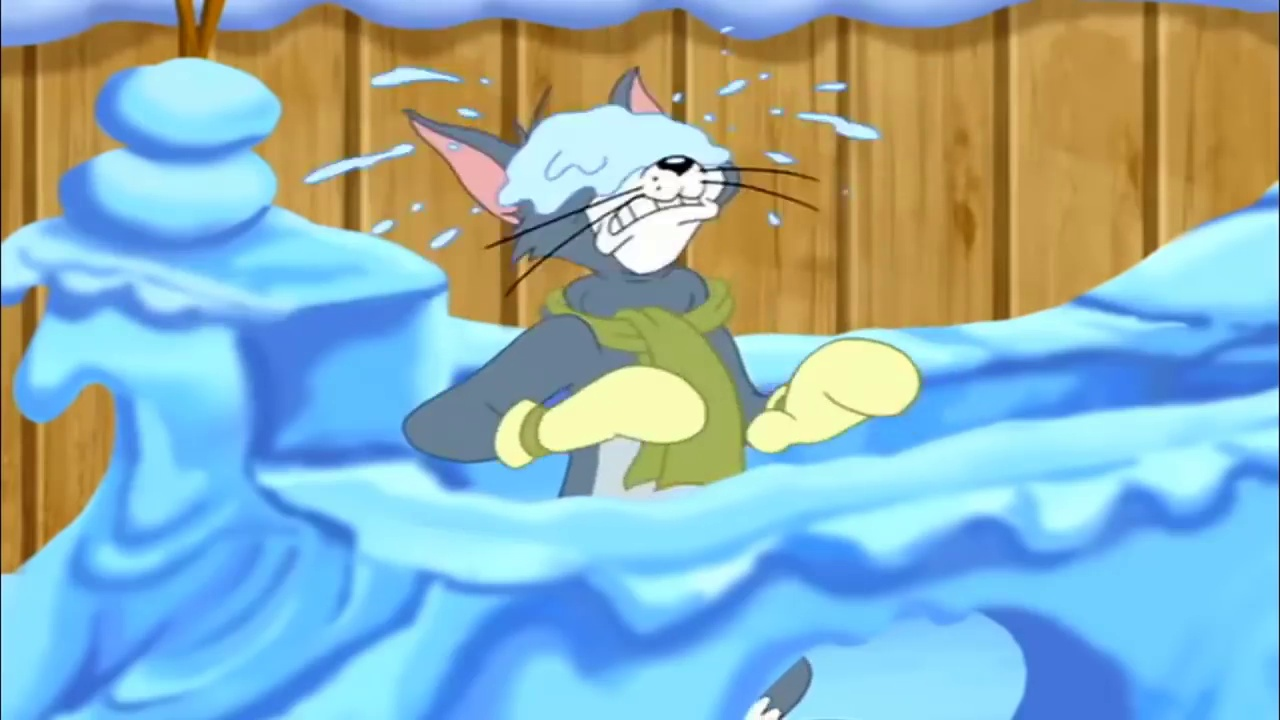face: (569, 122, 740, 278)
